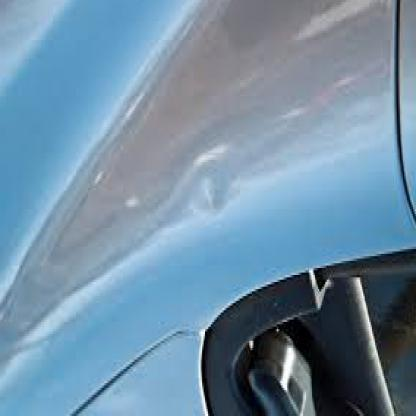dent: (172, 147, 245, 227)
